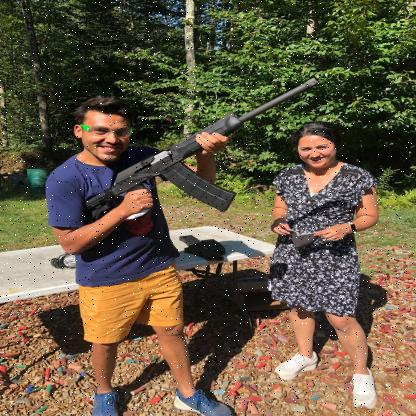rifle: (82, 76, 320, 226)
